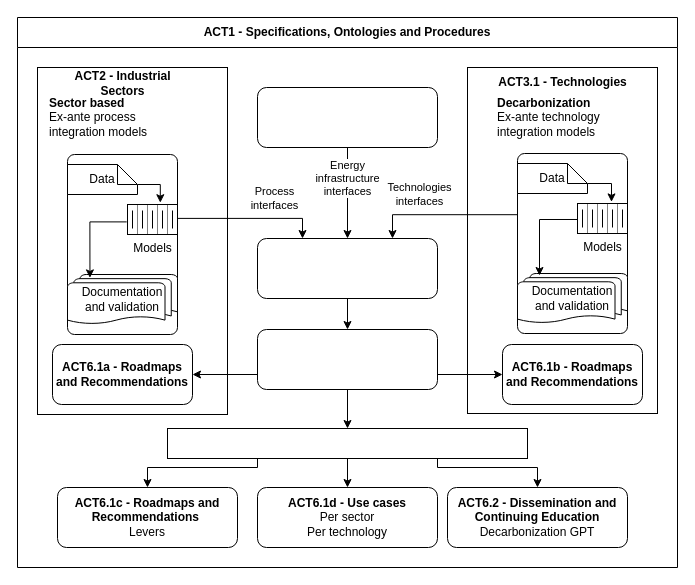
Image size: 695x585. Some labels were removed from this diagram. The centre of each missing label's shape, as x and y in pixels:
ACT3.2 - Energy Systems IAM and ES models: the point at 347,117
ACT4 - Process Integration Heat and Mass: the point at 347,268
ACT5 - Sustainability metrics: the point at 347,359
Knowledge transfer - Business models - Documentation: the point at 347,443
